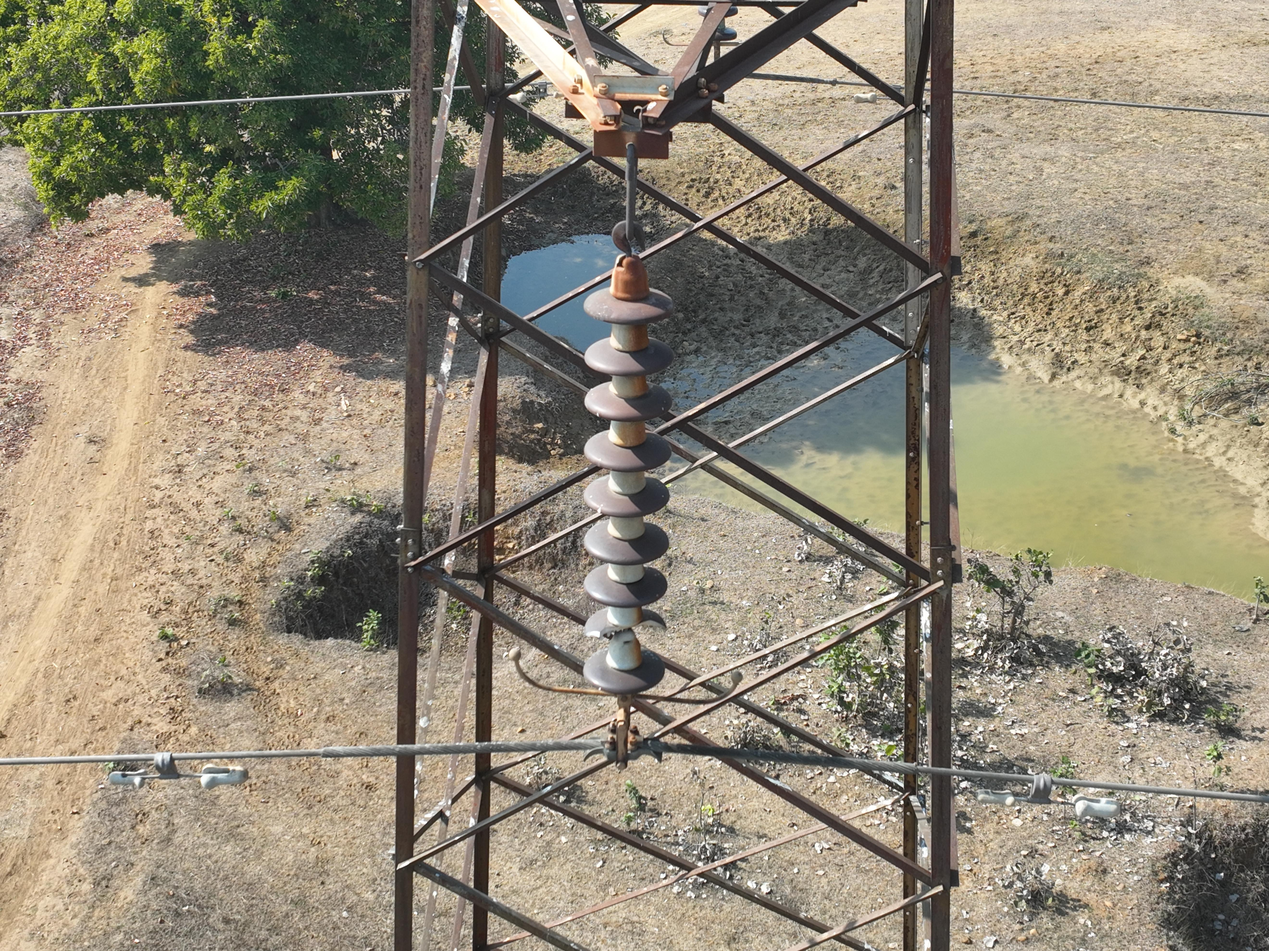broken_insulator: (585, 607, 669, 643)
